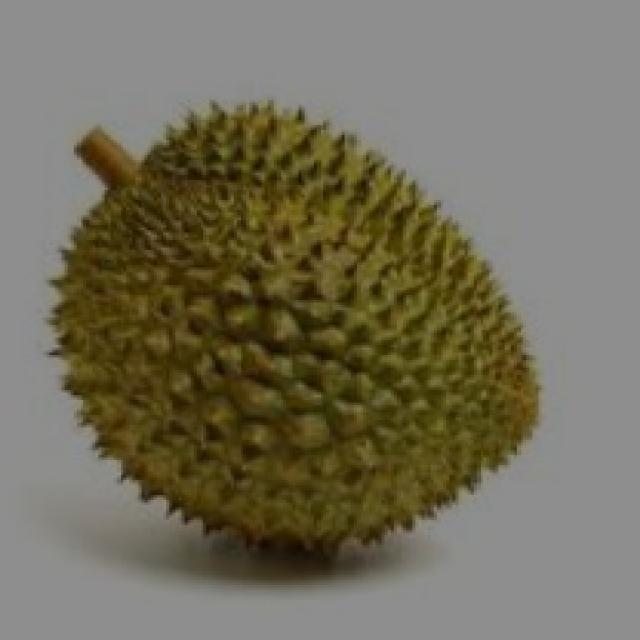fruit: (9, 178, 366, 600), (240, 192, 575, 608)
